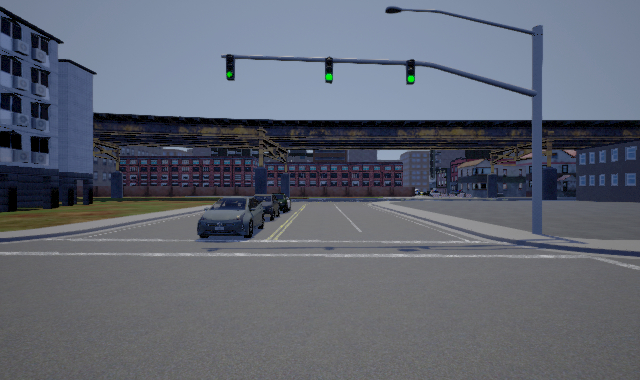traffic_light: (226, 54, 235, 81), (406, 59, 415, 85), (325, 56, 333, 84)
vehicle: (199, 194, 263, 238), (252, 192, 279, 220)
